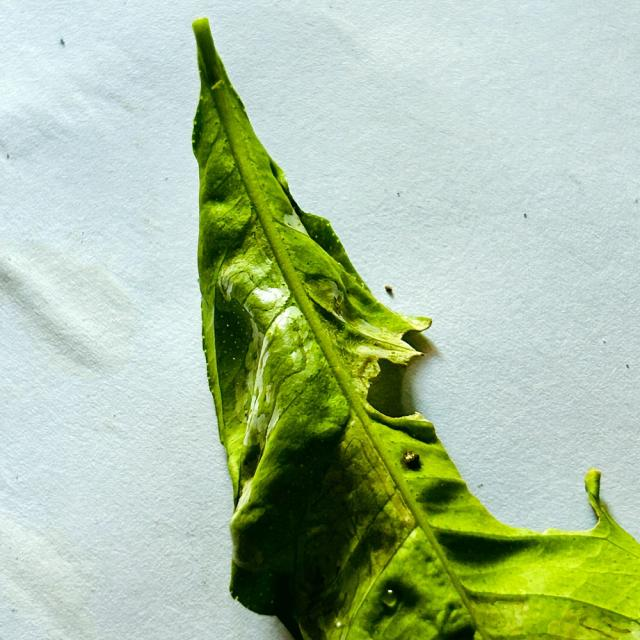Deficiency Leaf: (402, 321, 596, 529)
Lemon: (191, 19, 639, 639)
